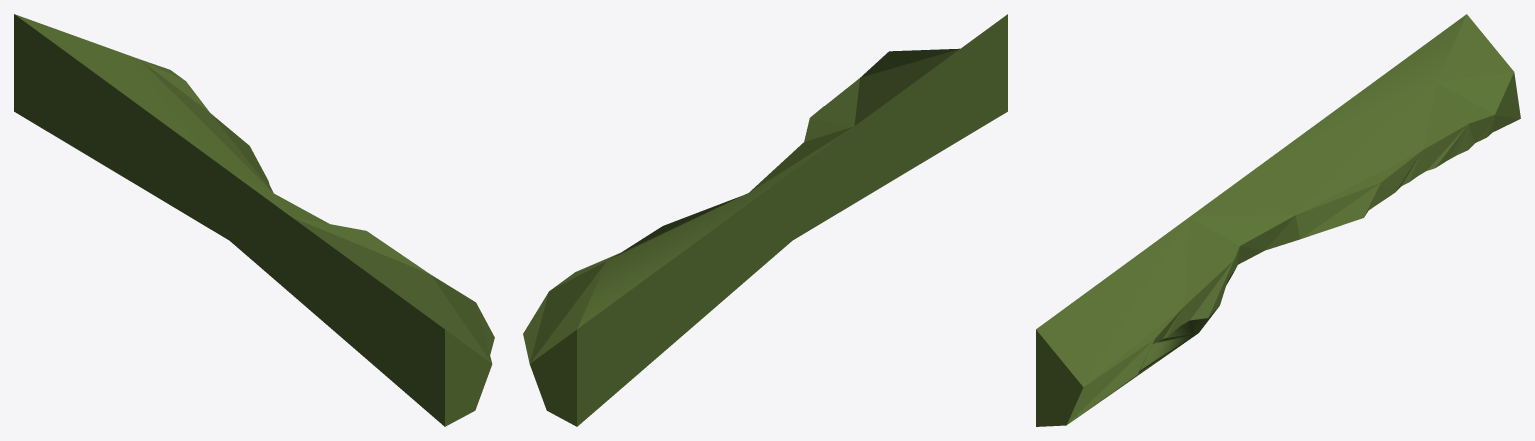
File: LightVegetationEdgeMediumStraight1.fbx
3 views of the same model, side by side, from view 1: azimuth 30°, elevation 25°; view 2: azimuth 150°, elevation 25°; view 3: azimuth 330°, elevation 25° (orthographic).
Visible parts, largest first — view 1: LightVegetationEdgeMediumStraight1; view 2: LightVegetationEdgeMediumStraight1; view 3: LightVegetationEdgeMediumStraight1.
Part boxes in pixels (x1,y1,x2,y2): LightVegetationEdgeMediumStraight1: [14, 14, 494, 426]; LightVegetationEdgeMediumStraight1: [523, 14, 1007, 426]; LightVegetationEdgeMediumStraight1: [1036, 14, 1520, 426].
Size of the model in its own units: 198 by 200 by 1600.
